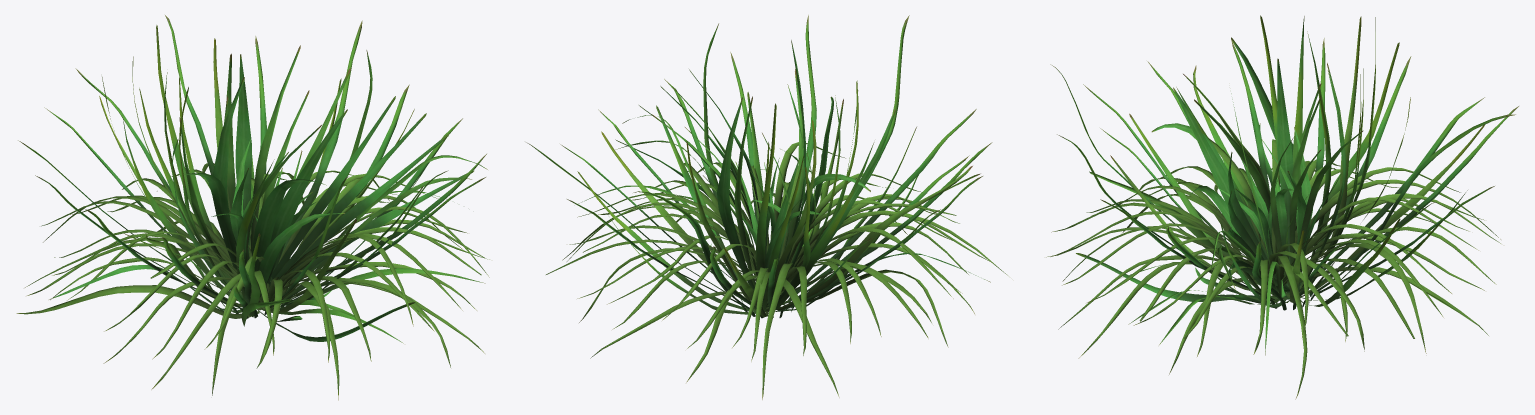
The picture shows the model from 3 angles, left to right: view 1: azimuth 30°, elevation 25°; view 2: azimuth 150°, elevation 25°; view 3: azimuth 270°, elevation 25°; orthographic projection. The views are drawn at different scales.
Visible parts, largest first — view 1: patch_of_long_grass.1; view 2: patch_of_long_grass.1; view 3: patch_of_long_grass.1.
Boxes of the visible parts, x1,y1,x2,y2 form: patch_of_long_grass.1: [16, 15, 489, 400]; patch_of_long_grass.1: [526, 15, 1007, 399]; patch_of_long_grass.1: [1046, 15, 1518, 399].
Bounding box in the file's own units: 0.9 × 0.518 × 0.8654.
1 material, 1 textured.
